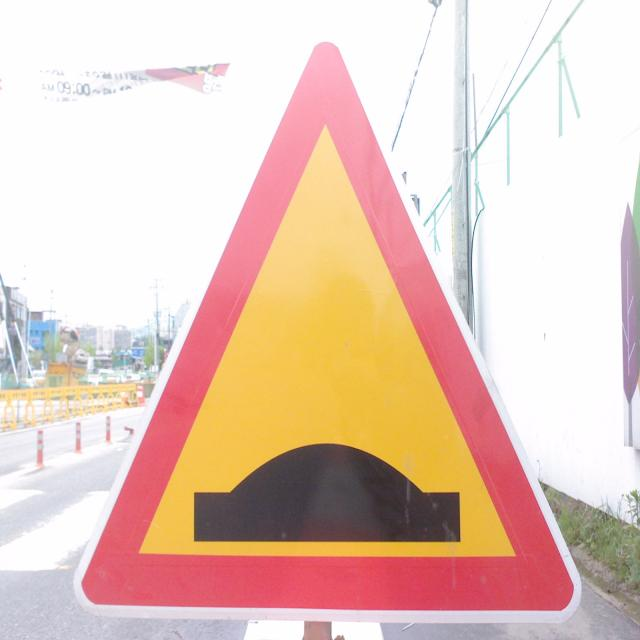Speed_bump_ahead: (60, 29, 588, 630)
